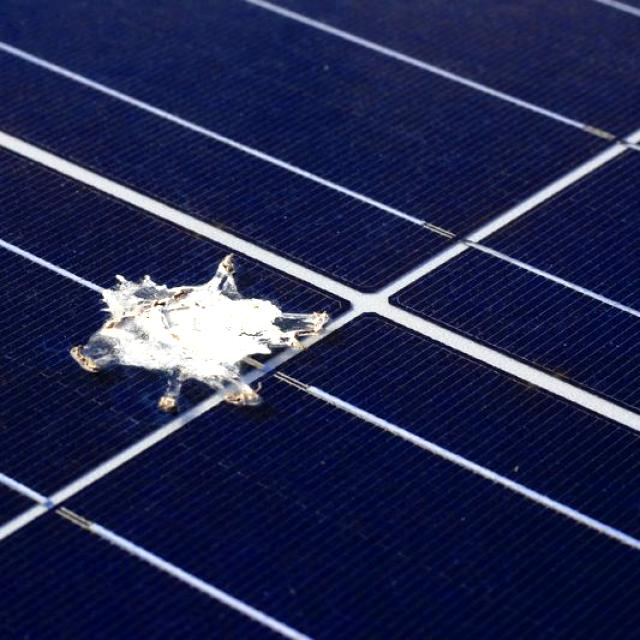bird: (64, 243, 335, 425)
